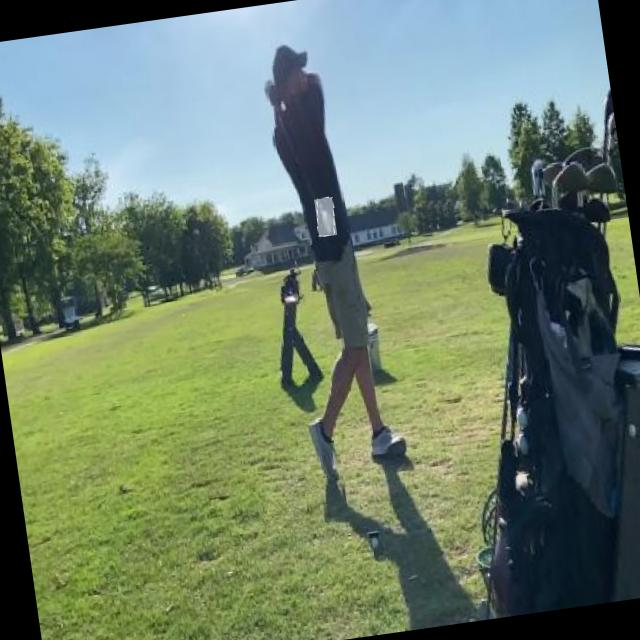club head: (314, 197, 337, 237)
